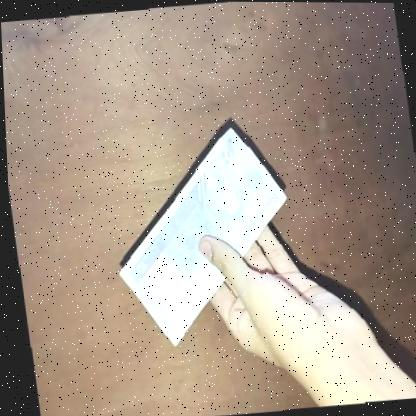ten-back-vef: (98, 124, 302, 350)
